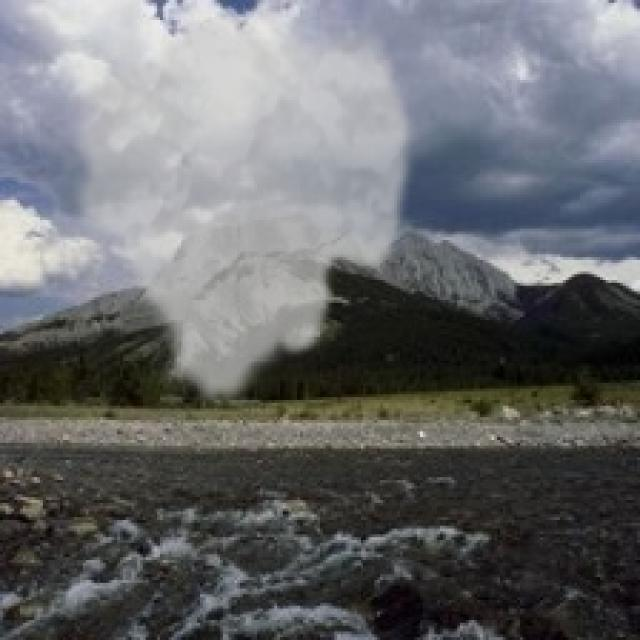Smoke: (63, 14, 420, 412)
